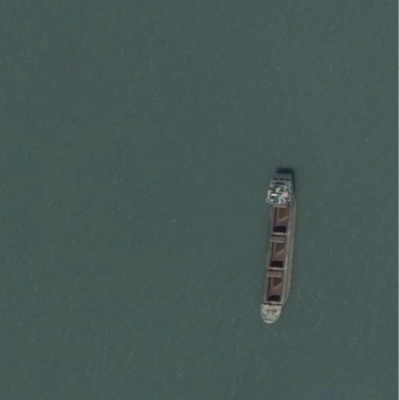boat: (259, 172, 300, 327)
